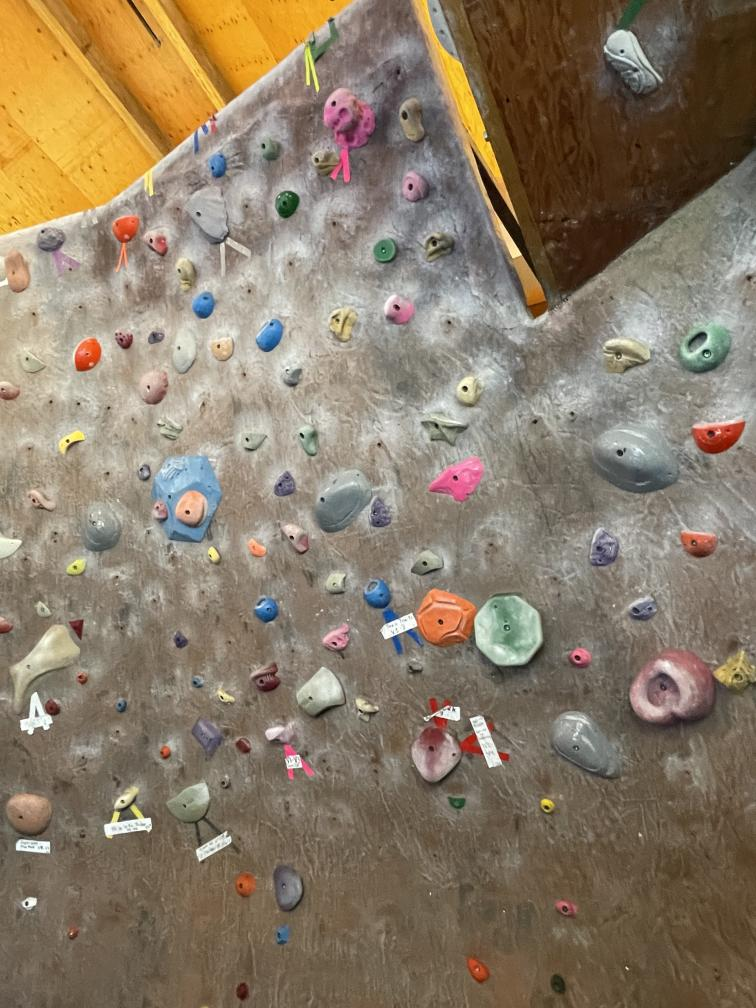Crimp: (294, 664, 351, 720), (689, 416, 746, 462), (164, 775, 213, 827), (420, 407, 470, 448), (585, 525, 622, 571), (169, 320, 198, 378), (675, 529, 721, 560), (148, 412, 188, 444), (364, 496, 399, 530), (624, 591, 660, 624), (272, 186, 306, 219), (17, 342, 50, 376), (204, 335, 238, 364), (269, 470, 298, 498), (63, 557, 88, 579), (144, 324, 169, 346), (246, 536, 268, 560), (32, 599, 55, 621), (134, 460, 154, 484), (216, 686, 236, 708), (206, 544, 225, 567)
Edges: (585, 418, 686, 498), (4, 620, 83, 720), (546, 702, 626, 784), (414, 586, 477, 655), (313, 464, 372, 534), (79, 497, 123, 554)
Foothold: (714, 642, 756, 703), (461, 949, 491, 986), (551, 894, 579, 924), (233, 870, 257, 899), (565, 646, 594, 670), (444, 792, 473, 813), (169, 628, 194, 651), (538, 794, 562, 817), (40, 695, 64, 717), (551, 972, 571, 996), (18, 894, 40, 914), (113, 694, 132, 716), (237, 734, 254, 758), (272, 922, 289, 943), (73, 667, 90, 687), (61, 926, 81, 942), (192, 674, 208, 694), (218, 771, 234, 790), (236, 983, 251, 1000), (157, 746, 174, 757)
Jug: (471, 584, 545, 669), (322, 83, 379, 151), (597, 325, 654, 383), (428, 450, 484, 508), (404, 730, 464, 784), (2, 790, 55, 839), (394, 84, 429, 151), (270, 866, 313, 915), (242, 649, 286, 692), (378, 290, 422, 329), (67, 334, 104, 379), (325, 303, 361, 348), (276, 520, 312, 557), (136, 367, 170, 406), (4, 249, 30, 298), (398, 168, 433, 204), (258, 719, 299, 748), (306, 147, 342, 180), (318, 620, 349, 658), (417, 228, 456, 258), (291, 418, 321, 457), (110, 212, 142, 248), (173, 255, 200, 293), (450, 377, 490, 402), (142, 226, 170, 260), (26, 488, 62, 514), (253, 134, 283, 162), (280, 362, 305, 391), (113, 326, 137, 349), (150, 499, 170, 524)
Pinch: (594, 12, 672, 109), (188, 714, 227, 761), (169, 490, 214, 529), (369, 231, 401, 266), (405, 550, 446, 577), (113, 779, 141, 815), (57, 426, 86, 456), (323, 568, 348, 600), (237, 429, 269, 454), (68, 615, 87, 642)
Pocket: (627, 647, 714, 735), (674, 322, 733, 375), (250, 310, 289, 357), (204, 145, 234, 182), (187, 292, 219, 324), (358, 577, 391, 608), (248, 595, 283, 624)
Sloper: (180, 184, 234, 246), (31, 224, 68, 254)
